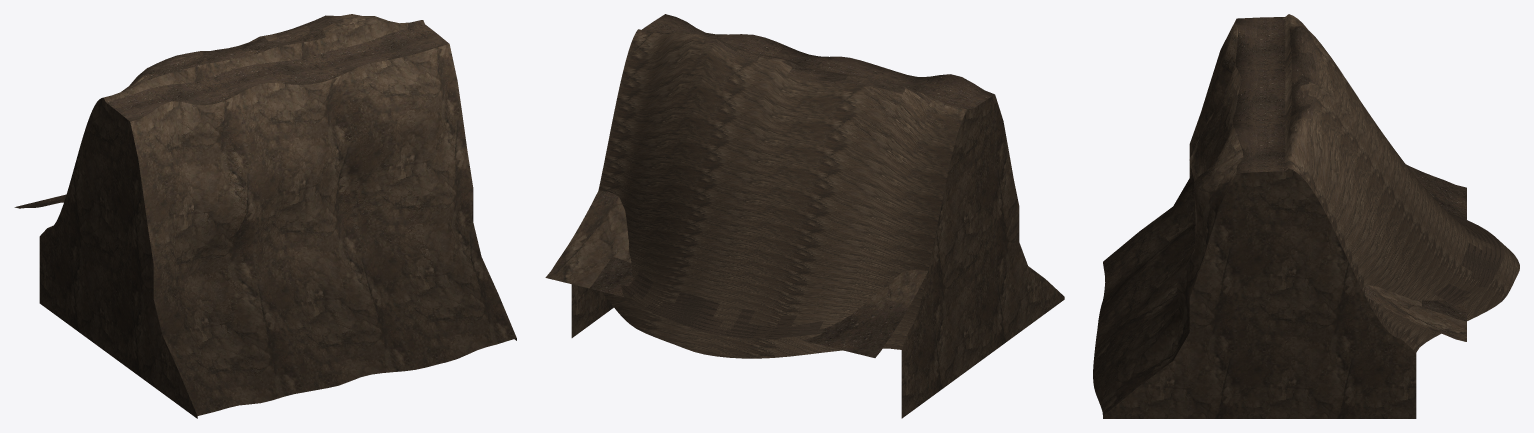
The model's file is seacliff_straight6b_h3_v5_dead.glb.
3 renders of one model, left to right at view 1: azimuth 30°, elevation 25°; view 2: azimuth 150°, elevation 25°; view 3: azimuth 270°, elevation 25°, orthographic. The views are drawn at different scales.
Parts seen in each view (by area): view 1: seacliff_straight6b_h3; view 2: seacliff_straight6b_h3; view 3: seacliff_straight6b_h3.
Part boxes in pixels (x1,y1,x2,y2): seacliff_straight6b_h3: [14, 14, 516, 418]; seacliff_straight6b_h3: [545, 14, 1064, 418]; seacliff_straight6b_h3: [1093, 14, 1519, 418].
Size of the model in its own units: 6 by 4.87 by 7.
Materials: 2 (2 with a texture image).
